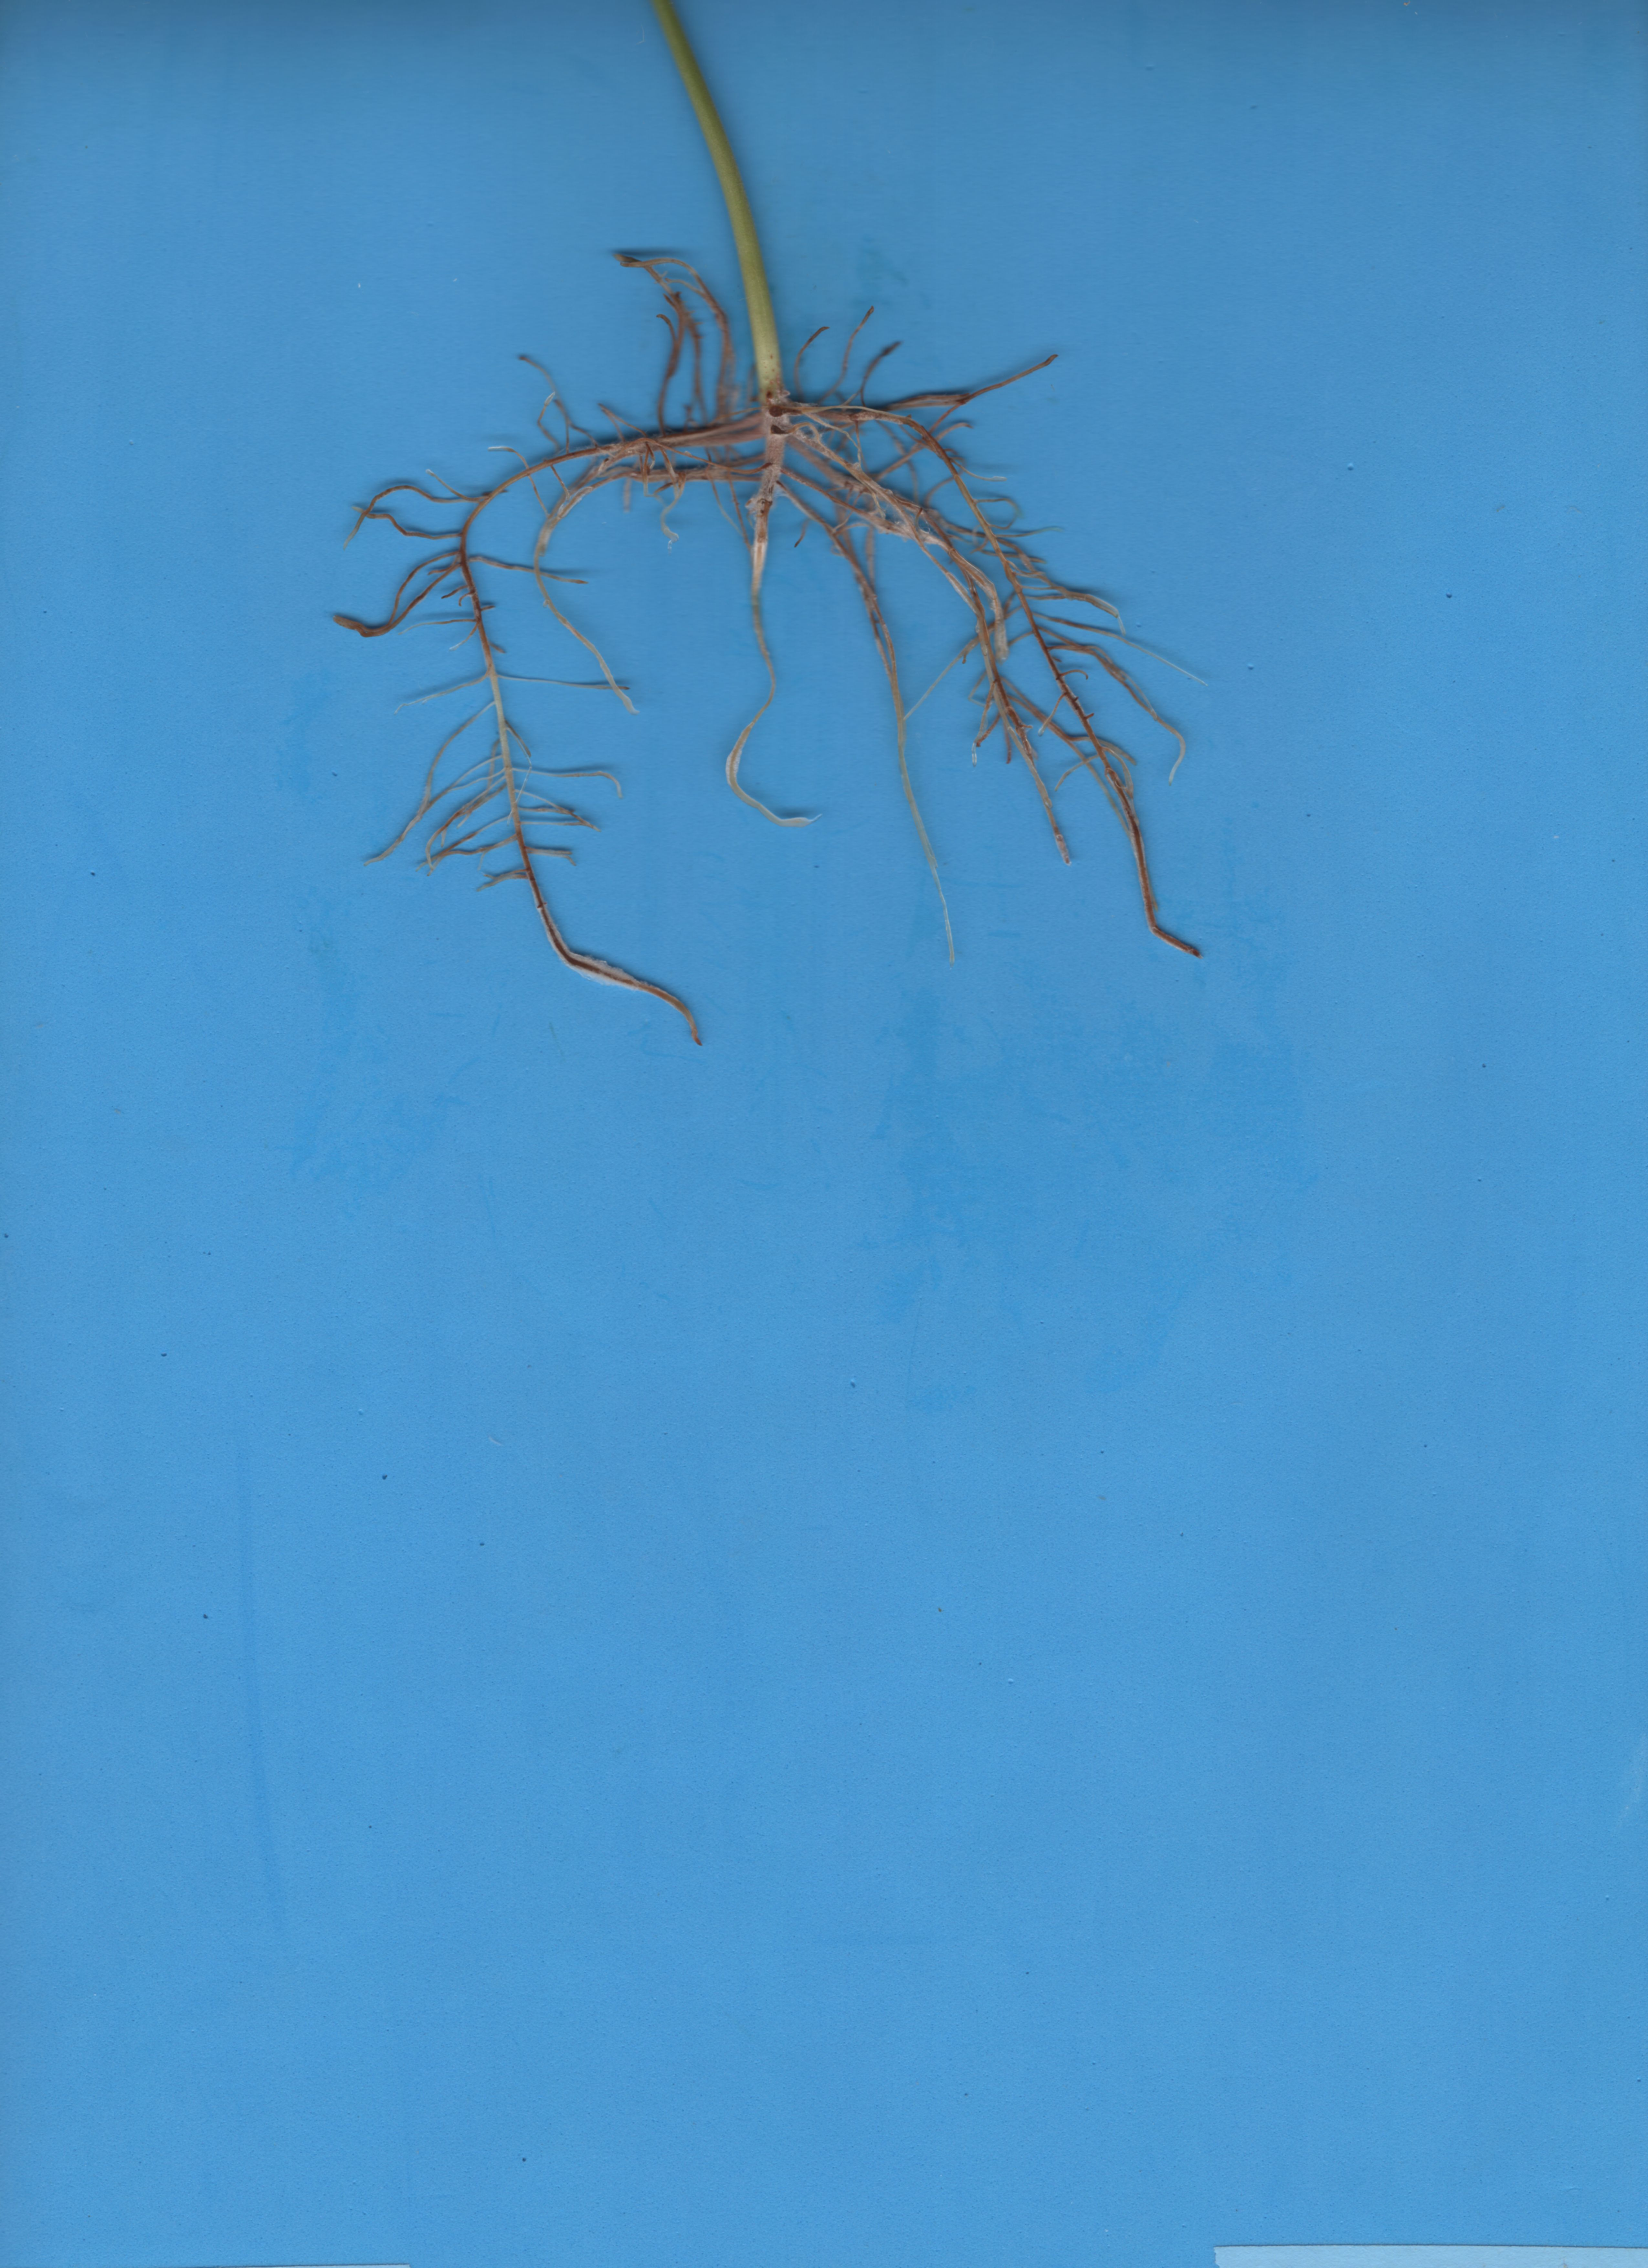ROOTDISEASE: (211, 322, 1453, 1108)
ROOTGOOD: (630, 5, 819, 384)
